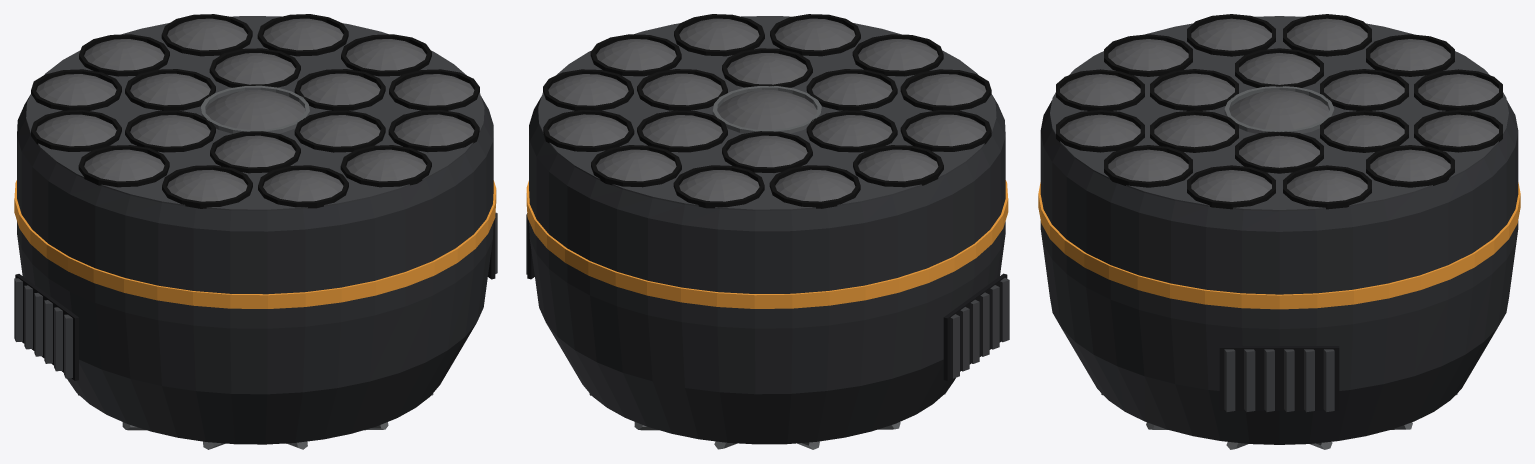
The model's file is csc_lumora_w7_head.obj.
3 renders of one model, left to right at view 1: azimuth 30°, elevation 25°; view 2: azimuth 150°, elevation 25°; view 3: azimuth 270°, elevation 25°, orthographic.
Parts seen in each view (by area): view 1: head_csc_2f3033, head_csc_59595b, head_csc_0d0d0d, head_csc_3f4043, head_csc_f9a238, head_csc_616365, head_csc_161618; view 2: head_csc_2f3033, head_csc_59595b, head_csc_0d0d0d, head_csc_3f4043, head_csc_f9a238, head_csc_616365, head_csc_161618; view 3: head_csc_2f3033, head_csc_59595b, head_csc_0d0d0d, head_csc_3f4043, head_csc_f9a238, head_csc_161618, head_csc_616365.
Part boxes in pixels (box(x1,y1,x2,y2)): head_csc_2f3033: box(17, 95, 493, 444); head_csc_59595b: box(36, 18, 474, 201); head_csc_0d0d0d: box(31, 14, 479, 208); head_csc_3f4043: box(14, 16, 497, 378); head_csc_f9a238: box(14, 180, 496, 308); head_csc_616365: box(78, 85, 433, 449); head_csc_161618: box(15, 218, 495, 380); head_csc_2f3033: box(529, 95, 1005, 444); head_csc_59595b: box(548, 18, 986, 201); head_csc_0d0d0d: box(543, 14, 991, 208); head_csc_3f4043: box(526, 16, 1009, 378); head_csc_f9a238: box(526, 180, 1008, 308); head_csc_616365: box(589, 86, 945, 449); head_csc_161618: box(527, 217, 1007, 380); head_csc_2f3033: box(1040, 100, 1518, 444); head_csc_59595b: box(1060, 18, 1498, 201); head_csc_0d0d0d: box(1056, 14, 1502, 209); head_csc_3f4043: box(1050, 16, 1508, 412); head_csc_f9a238: box(1038, 182, 1520, 309); head_csc_161618: box(1219, 346, 1339, 410); head_csc_616365: box(1101, 86, 1457, 449).
Size of the model in its own units: 0.6188 by 0.4277 by 0.5984.
